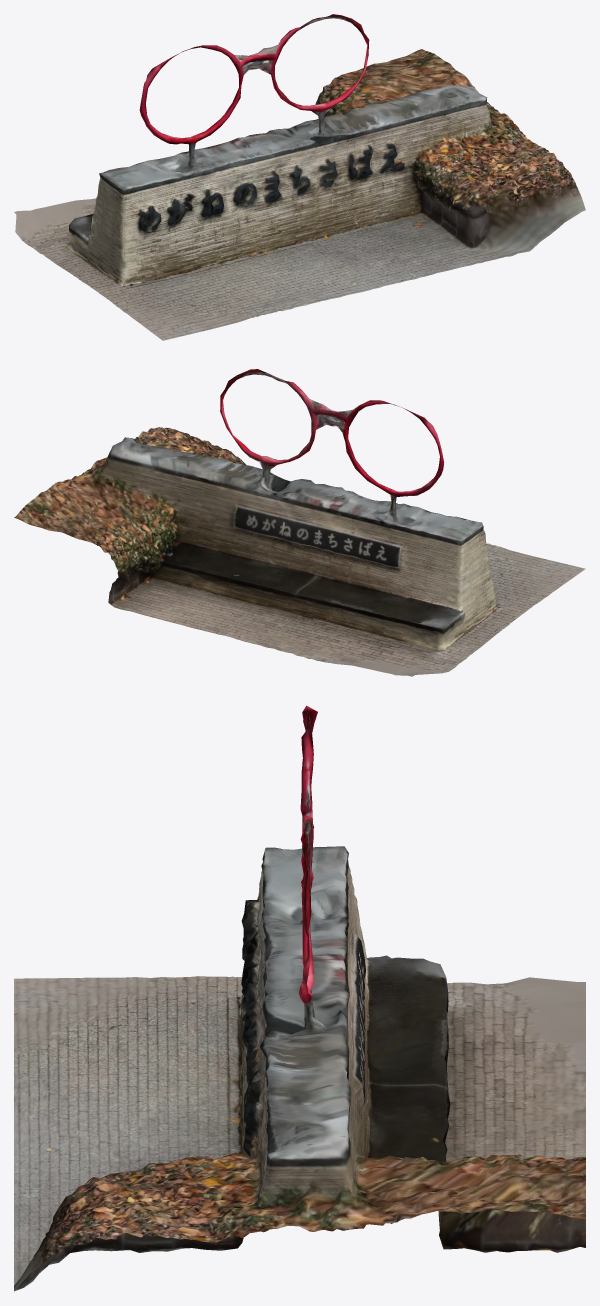
File: megane-city-sabae.glb
3 views of the same model, one above another, from view 1: azimuth 30°, elevation 25°; view 2: azimuth 150°, elevation 25°; view 3: azimuth 270°, elevation 25° (orthographic). The views are drawn at different scales.
Visible parts, largest first — view 1: ObjectCapture; view 2: ObjectCapture; view 3: ObjectCapture.
Boxes of the visible parts, <box> form: ObjectCapture: <box>14,14,585,340</box>; ObjectCapture: <box>14,369,585,676</box>; ObjectCapture: <box>14,705,585,1291</box>.
Bounding box in the file's own units: 5.18 × 2.43 × 3.47.
1 material, 1 textured.
